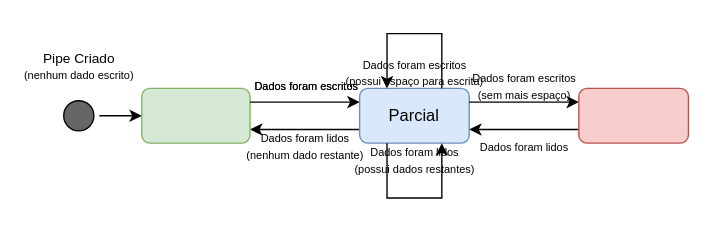
The diagram is 712 pixels wide and 233 high, and some of its shapes have lost their labels. The shapes that lost their labels are listed below. From the top down, each one's box as (x1, y1, x2, y2) in pixels, then its label:
(140, 87, 250, 143): Vazio
(577, 87, 688, 143): Cheio
